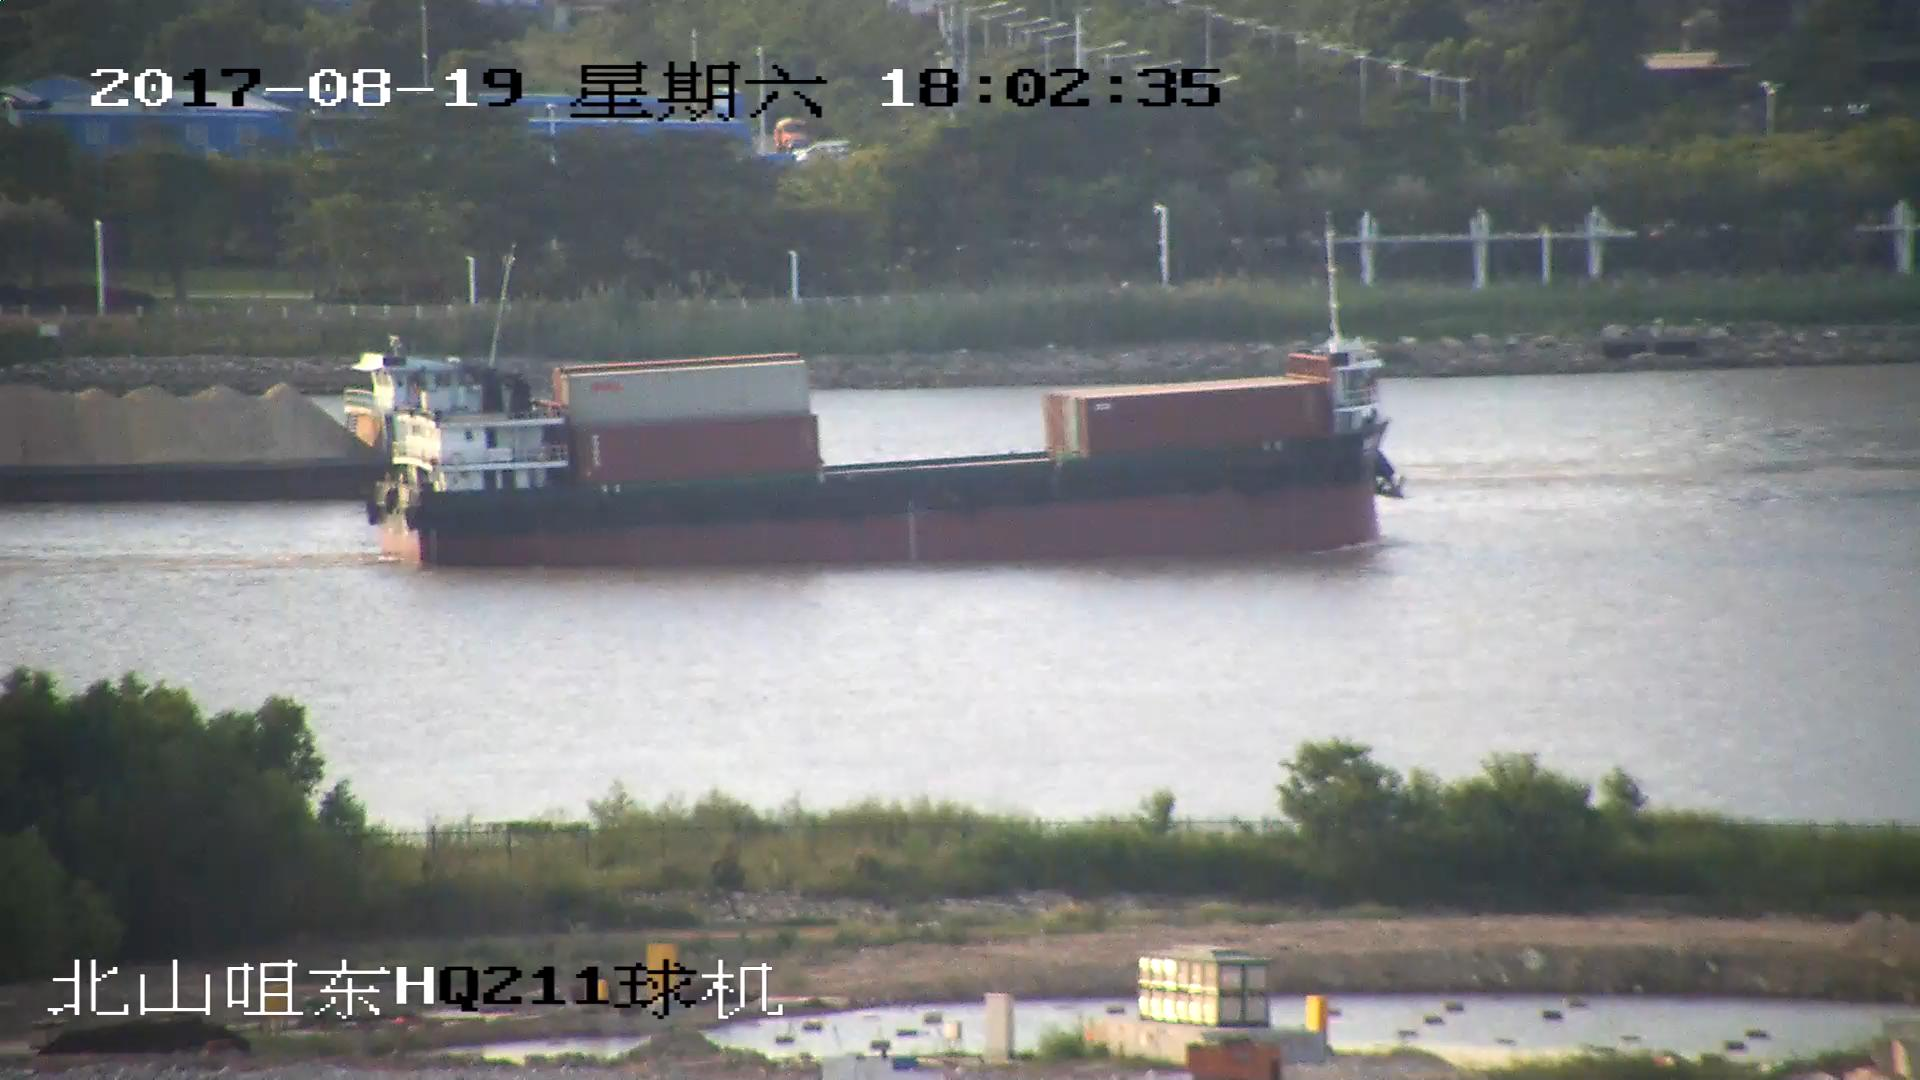container ship: (364, 237, 1403, 567)
ore carrier: (1, 383, 356, 512)
